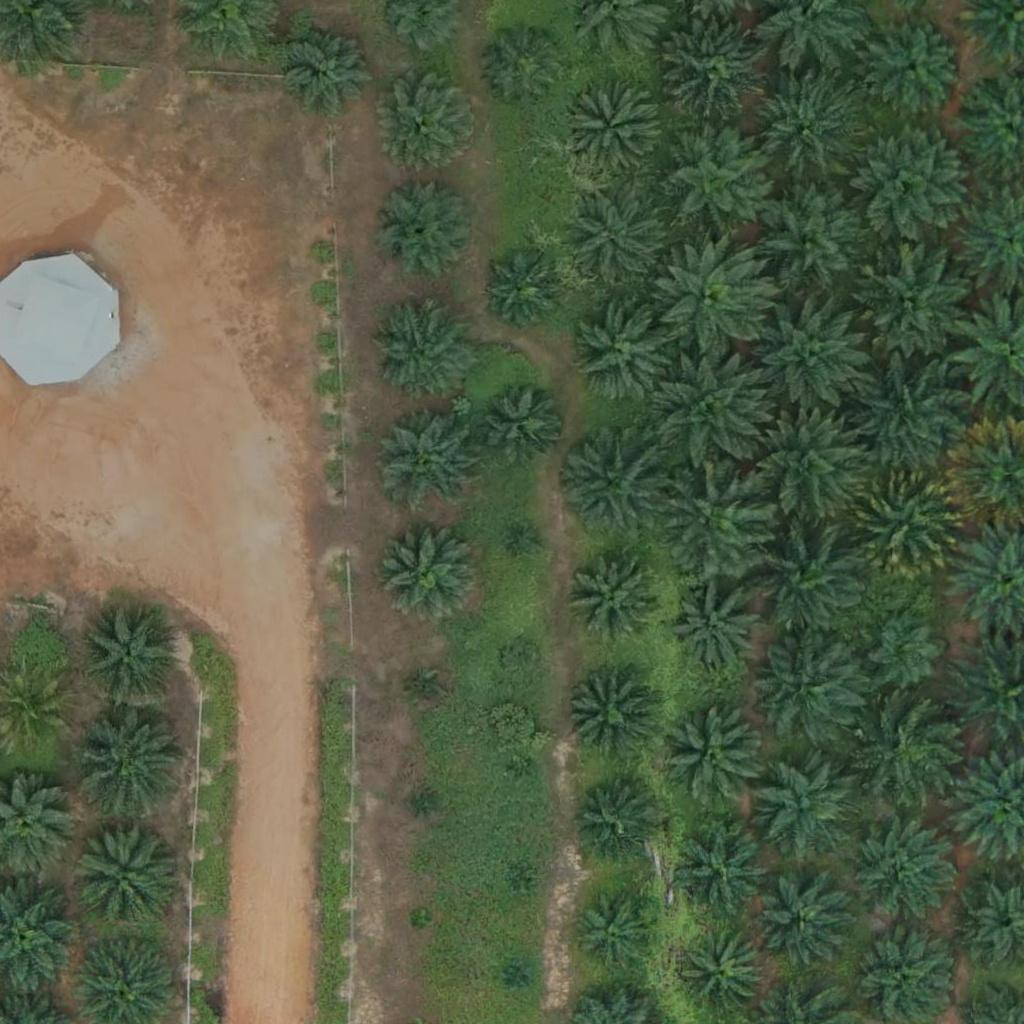Kelapa_Sawit: (556, 427, 669, 541), (661, 15, 774, 128), (748, 71, 861, 184), (756, 186, 869, 299), (856, 126, 969, 239), (859, 240, 972, 353), (858, 358, 971, 471), (849, 468, 962, 581), (656, 355, 768, 469), (750, 525, 862, 639), (754, 628, 866, 742), (659, 461, 771, 575), (656, 124, 768, 237), (655, 245, 767, 358), (758, 297, 870, 410), (747, 412, 859, 525), (75, 705, 187, 818), (369, 299, 469, 400), (562, 78, 662, 179), (867, 17, 967, 118), (753, 757, 853, 858), (662, 706, 762, 807), (670, 818, 770, 919), (377, 410, 477, 511), (375, 518, 475, 619), (77, 605, 177, 706), (379, 73, 479, 173), (374, 180, 474, 280), (572, 192, 672, 292), (574, 305, 674, 405), (858, 701, 958, 801), (851, 822, 951, 922), (72, 825, 172, 925), (574, 887, 662, 976), (288, 25, 376, 113), (571, 779, 659, 867), (680, 931, 768, 1019), (480, 24, 567, 112), (760, 883, 847, 971), (672, 584, 759, 672), (572, 551, 659, 639), (565, 673, 652, 761), (478, 380, 565, 468), (485, 252, 560, 328), (867, 612, 942, 688), (503, 643, 541, 681), (516, 528, 541, 553), (512, 758, 537, 783), (506, 874, 531, 899), (412, 678, 437, 703), (412, 791, 437, 816), (408, 909, 433, 934), (507, 963, 532, 988)
